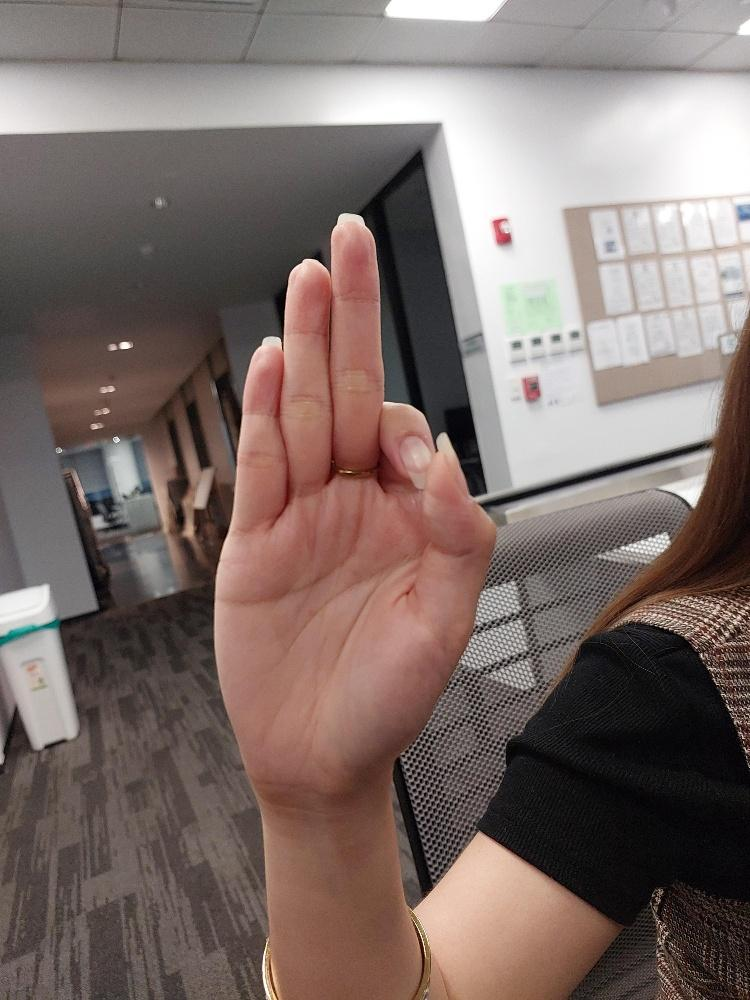f: (209, 208, 500, 796)
